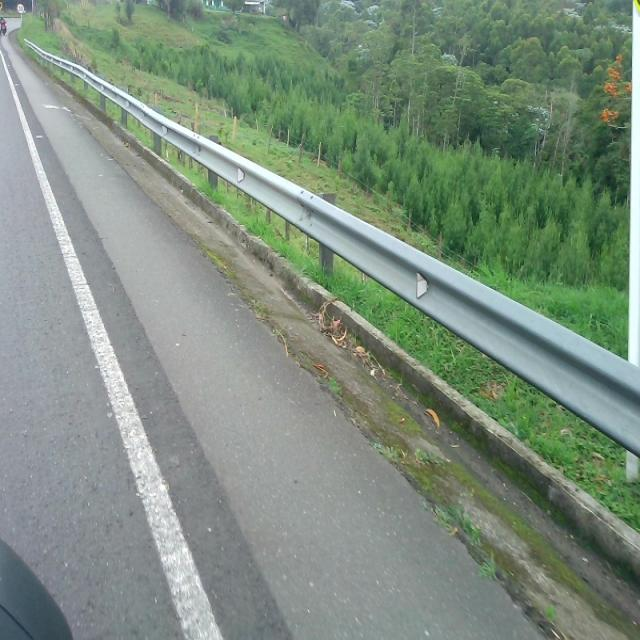DITCH: (5, 19, 638, 638), (1, 41, 638, 638)
